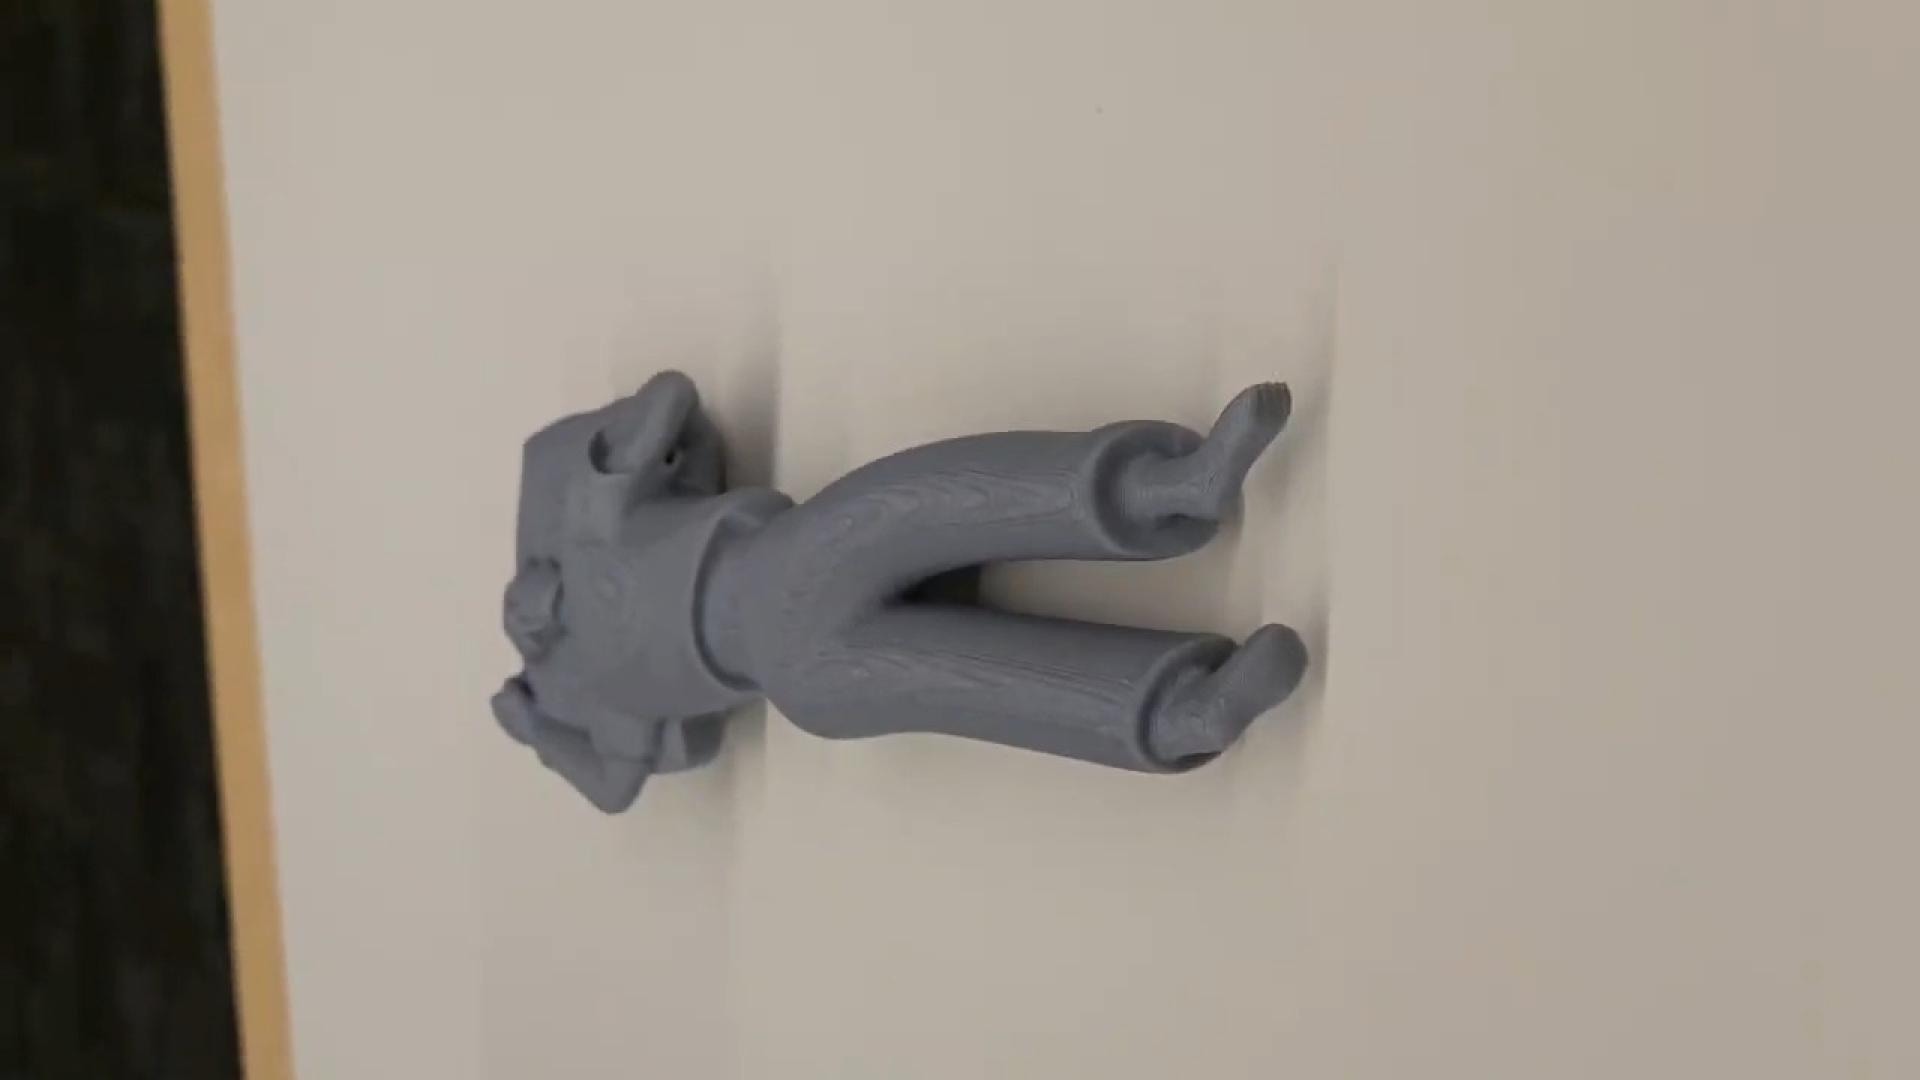Bad-style: (476, 359, 1312, 818)
